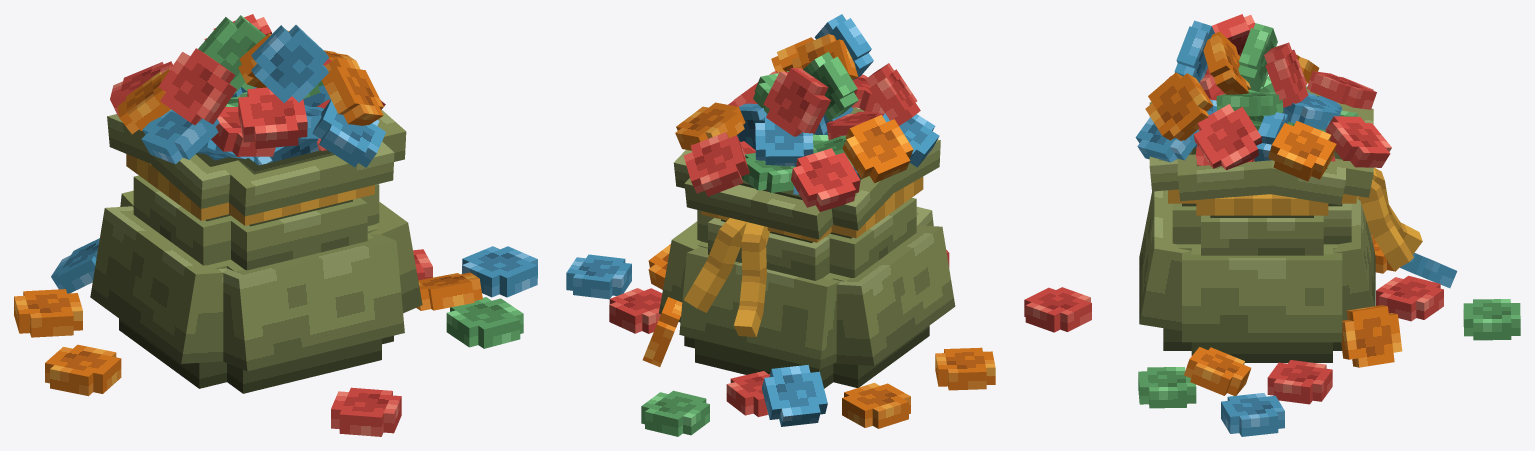
The model's file is bag_of_booty_epic.gltf.
3 renders of one model, left to right at view 1: azimuth 30°, elevation 25°; view 2: azimuth 150°, elevation 25°; view 3: azimuth 270°, elevation 25°, orthographic. The views are drawn at different scales.
Parts seen in each view (by area): view 1: bag_side_back-Local, bag_bottom-Local, bag_side_left-Local, bag_top_1-Local, gold_33-Local, gold_34-Local, gold_16-Local, gold_38-Local, gold_20-Local, rope_0-Local, gold_37-Local, gold_41-Local (+14 smaller); view 2: bag_side_left-Local, bag_bottom-Local, bag_side_front-Local, bag_top_2-Local, gold_31-Local, gold_35-Local, gold_29-Local, gold_17-Local, gold_32-Local, gold_41-Local, gold_36-Local, gold_39-Local (+28 smaller); view 3: beg_side_right-Local, bag_bottom-Local, bag_side_back-Local, bag_top_1-Local, bag_top_2-Local, gold_40-Local, gold_26-Local, gold_28-Local, bag_side_front-Local, gold_24-Local, rope_0-Local, gold_37-Local (+20 smaller).
Part boxes in pixels (<box>): bag_side_back-Local: <box>223,234,404,371</box>; bag_bottom-Local: <box>119,150,393,393</box>; bag_side_left-Local: <box>90,206,226,363</box>; bag_top_1-Local: <box>147,110,406,216</box>; gold_33-Local: <box>251,25,328,103</box>; gold_34-Local: <box>158,48,236,125</box>; gold_16-Local: <box>238,87,307,148</box>; gold_38-Local: <box>45,344,121,396</box>; gold_20-Local: <box>446,297,523,348</box>; rope_0-Local: <box>126,154,374,225</box>; gold_37-Local: <box>331,387,401,436</box>; gold_41-Local: <box>14,289,82,337</box>; bag_side_left-Local: <box>834,225,955,365</box>; bag_bottom-Local: <box>684,177,929,388</box>; bag_side_front-Local: <box>679,247,841,368</box>; bag_top_2-Local: <box>673,149,893,239</box>; gold_31-Local: <box>842,115,913,183</box>; gold_35-Local: <box>761,364,827,426</box>; gold_29-Local: <box>763,68,830,136</box>; gold_17-Local: <box>791,148,860,211</box>; gold_32-Local: <box>683,132,749,196</box>; gold_41-Local: <box>842,382,910,428</box>; gold_36-Local: <box>641,390,709,436</box>; gold_39-Local: <box>566,254,631,299</box>; beg_side_right-Local: <box>1182,250,1342,342</box>; bag_bottom-Local: <box>1163,147,1351,362</box>; bag_side_back-Local: <box>1139,190,1190,330</box>; bag_top_1-Local: <box>1149,102,1273,201</box>; bag_top_2-Local: <box>1269,86,1373,205</box>; gold_40-Local: <box>1341,305,1402,367</box>; gold_26-Local: <box>1194,104,1262,170</box>; gold_28-Local: <box>1145,72,1213,140</box>; bag_side_front-Local: <box>1333,198,1375,320</box>; gold_24-Local: <box>1268,121,1336,181</box>; rope_0-Local: <box>1168,189,1356,215</box>; gold_37-Local: <box>1024,287,1091,332</box>.
Size of the model in its own units: 51.64 by 34.65 by 52.62.
55 materials, 55 textured.
